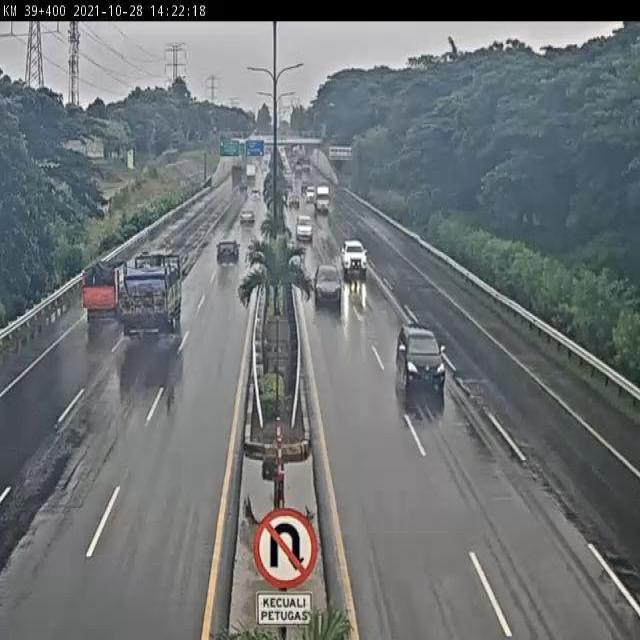car: (392, 324, 447, 389), (214, 234, 246, 270), (341, 235, 368, 272), (314, 262, 340, 298), (295, 215, 314, 245), (235, 207, 257, 232), (249, 186, 262, 206)
small truck: (120, 252, 189, 333), (72, 245, 121, 332)
